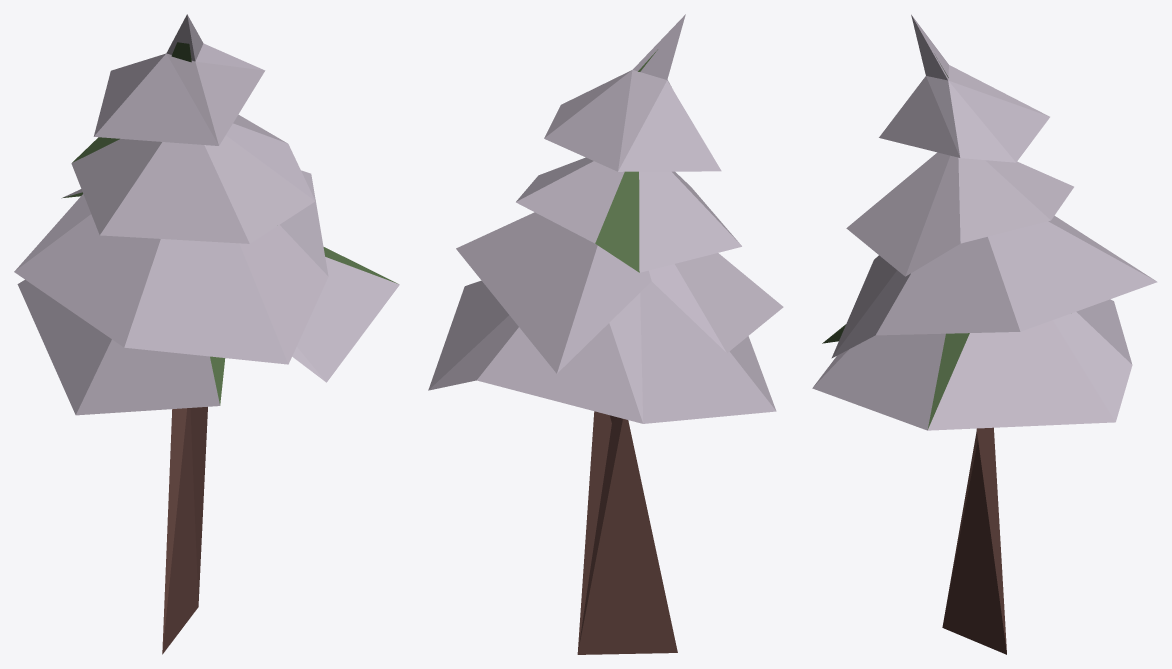
The model's file is PineTree_Snow_5.lod3.glb.
3 views of the same model, side by side, from view 1: azimuth 30°, elevation 25°; view 2: azimuth 150°, elevation 25°; view 3: azimuth 270°, elevation 25° (orthographic). The views are drawn at different scales.
Visible parts, largest first — view 1: PineTree_Snow_5; view 2: PineTree_Snow_5; view 3: PineTree_Snow_5.
Part boxes in pixels (x1=…): PineTree_Snow_5: x1=14, y1=14, x2=399, y2=654; PineTree_Snow_5: x1=428, y1=14, x2=783, y2=654; PineTree_Snow_5: x1=812, y1=14, x2=1157, y2=654.
Size of the model in its own units: 1.43 by 2.7 by 1.37.
